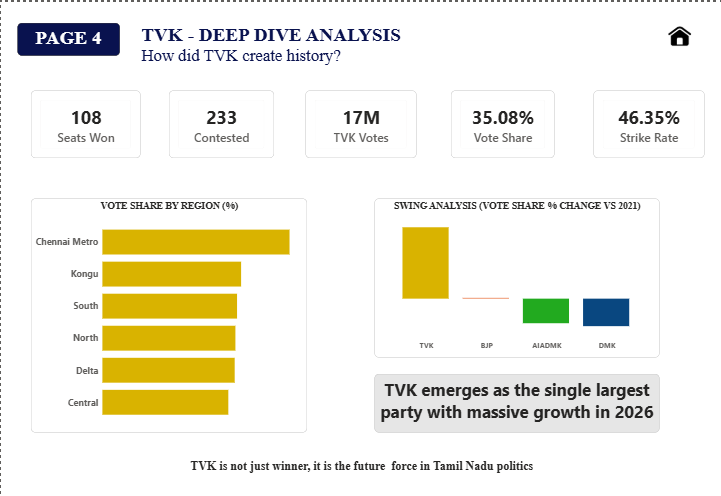

Layout of this report page (visuals, bound fields, positions):
{"tool":"powerbi","page":{"name":"Page 4","canvas":[1600,1100],"ordinal":4},"visuals":[{"type":"textbox","box":[35,45,227.5,72.5],"z":0},{"type":"textbox","box":[305,42.5,1212.5,122.5],"z":1000},{"type":"cardVisual","fields":{"Data":["key_measures.TVkSeatsWon"]},"box":[66.7,196.7,243.3,150],"z":2000},{"type":"cardVisual","fields":{"Data":["key_measures.TVK Vote Share"]},"box":[1000,196.7,230,150],"z":3000},{"type":"cardVisual","fields":{"Data":["key_measures.TVK Constituencies Contested"]},"box":[373.3,196.7,233.3,150],"z":4000},{"type":"cardVisual","fields":{"Data":["key_measures.TVK Strike Rate"]},"box":[1316.7,196.7,246.7,150],"z":5000},{"type":"cardVisual","fields":{"Data":["key_measures.TVK Votes 2026"]},"box":[676.7,196.7,246.7,150],"z":6000},{"type":"columnChart","title":"SWING ANALYSIS (VOTE SHARE % CHANGE VS 2021)","fields":{"Category":["election_results.party"],"Y":["key_measures.Vote Share Swing %"]},"box":[830,436.7,633.3,353.3],"z":7000},{"type":"clusteredBarChart","title":"VOTE SHARE BY REGION (%)","fields":{"Category":["election_results.region"],"Y":["key_measures.TVK Vote Share by Region %"]},"box":[66.7,436.7,613.3,520],"z":8000},{"type":"textbox","box":[830,826.7,633.3,130],"z":9000},{"type":"textbox","box":[236.7,1010,1130,63.3],"z":10000},{"type":"image","box":[1462.5,42.5,90,67.5],"z":10001}]}

Visuals, with their boxes in screenshot pixels (x1, y1, x2, y2), scaled from the page's 1600x1100 canvas onto the 721x496 screenshot:
textbox: 16 20 118 53
textbox: 137 19 684 74
cardVisual - key_measures.TVkSeatsWon: 30 89 140 156
cardVisual - key_measures.TVK Vote Share: 451 89 554 156
cardVisual - key_measures.TVK Constituencies Contested: 168 89 273 156
cardVisual - key_measures.TVK Strike Rate: 593 89 705 156
cardVisual - key_measures.TVK Votes 2026: 305 89 416 156
"SWING ANALYSIS (VOTE SHARE % CHANGE VS 2021)" columnChart: 374 197 659 356
"VOTE SHARE BY REGION (%)" clusteredBarChart: 30 197 306 431
textbox: 374 373 659 431
textbox: 107 455 616 484
image: 659 19 700 50
